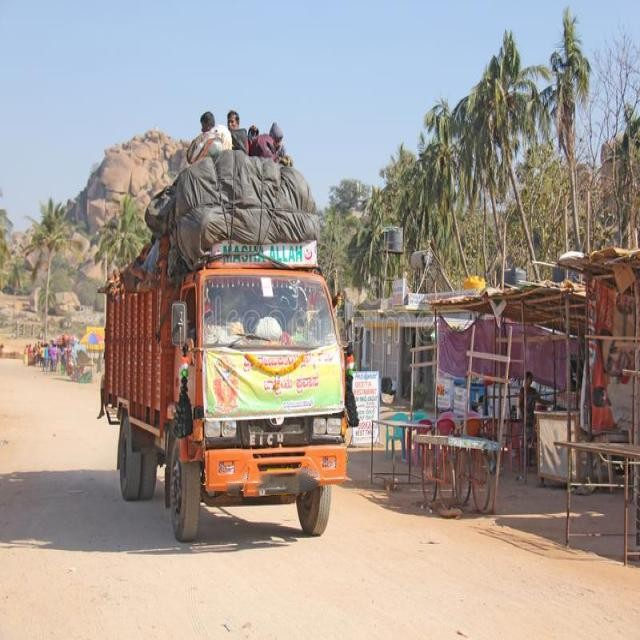truck: (101, 204, 351, 542)
